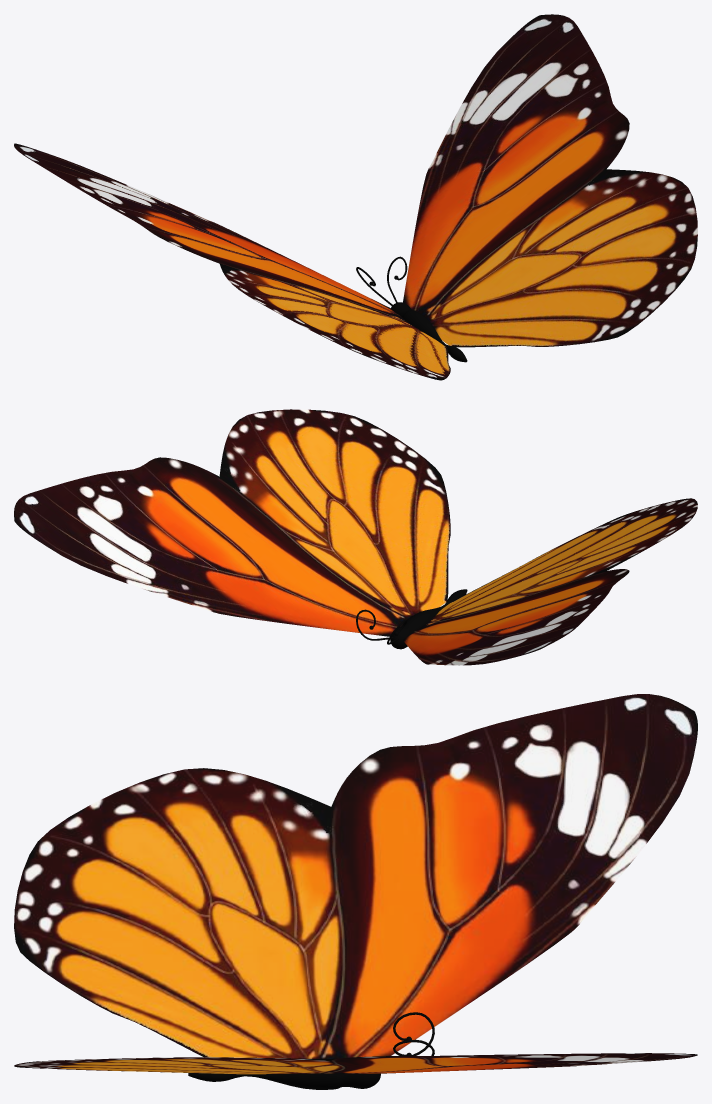
Rendered from bytt.glb.
3 renders of one model, top to bottom at view 1: azimuth 30°, elevation 25°; view 2: azimuth 150°, elevation 25°; view 3: azimuth 270°, elevation 25°, orthographic. The views are drawn at different scales.
Parts seen in each view (by area): view 1: node-0; view 2: node-0; view 3: node-0.
Part boxes in pixels (x1,y1,x2,y2): node-0: [14, 14, 697, 380]; node-0: [14, 409, 697, 665]; node-0: [14, 694, 697, 1089].
Size of the model in its own units: 33.74 by 9.42 by 27.17.
Materials: 1 (1 with a texture image).
